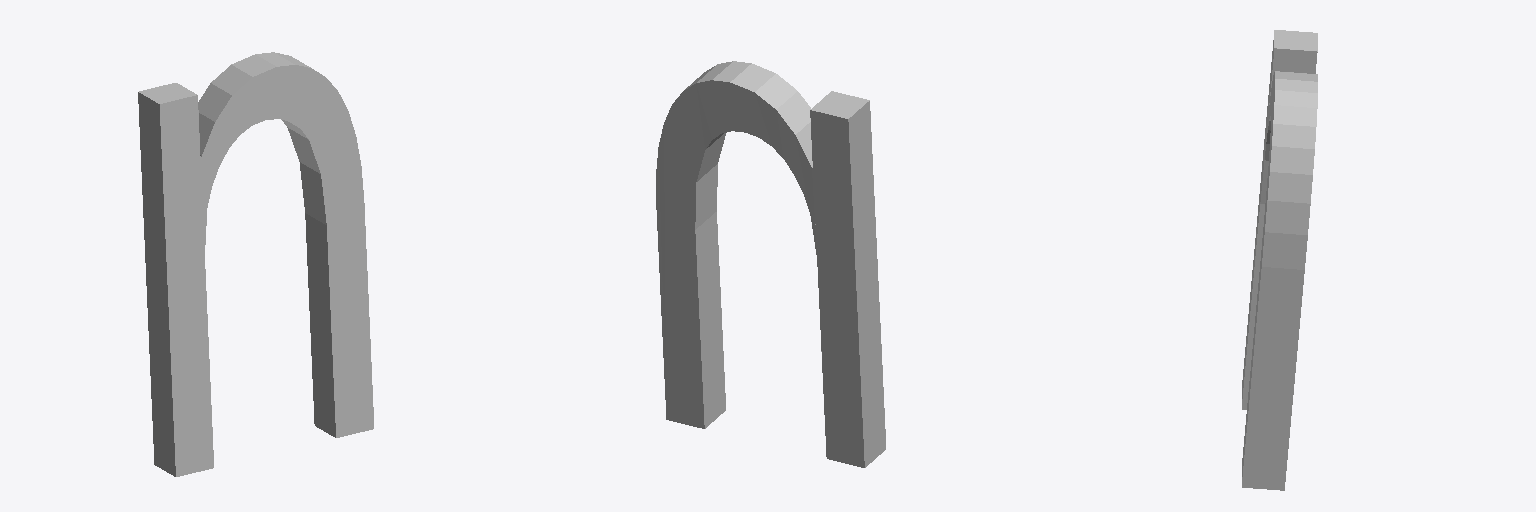
File: original-160.obj
3 views of the same model, side by side, from view 1: azimuth 30°, elevation 25°; view 2: azimuth 150°, elevation 25°; view 3: azimuth 270°, elevation 25° (orthographic).
Visible parts, largest first — view 1: #ID925; view 2: #ID925; view 3: #ID925.
Boxes of the visible parts, <box> form: #ID925: <box>138,52,373,476</box>; #ID925: <box>656,61,885,467</box>; #ID925: <box>1242,30,1317,490</box>.
Size of the model in its own units: 0.0043 by 0.0076 by 0.0014.